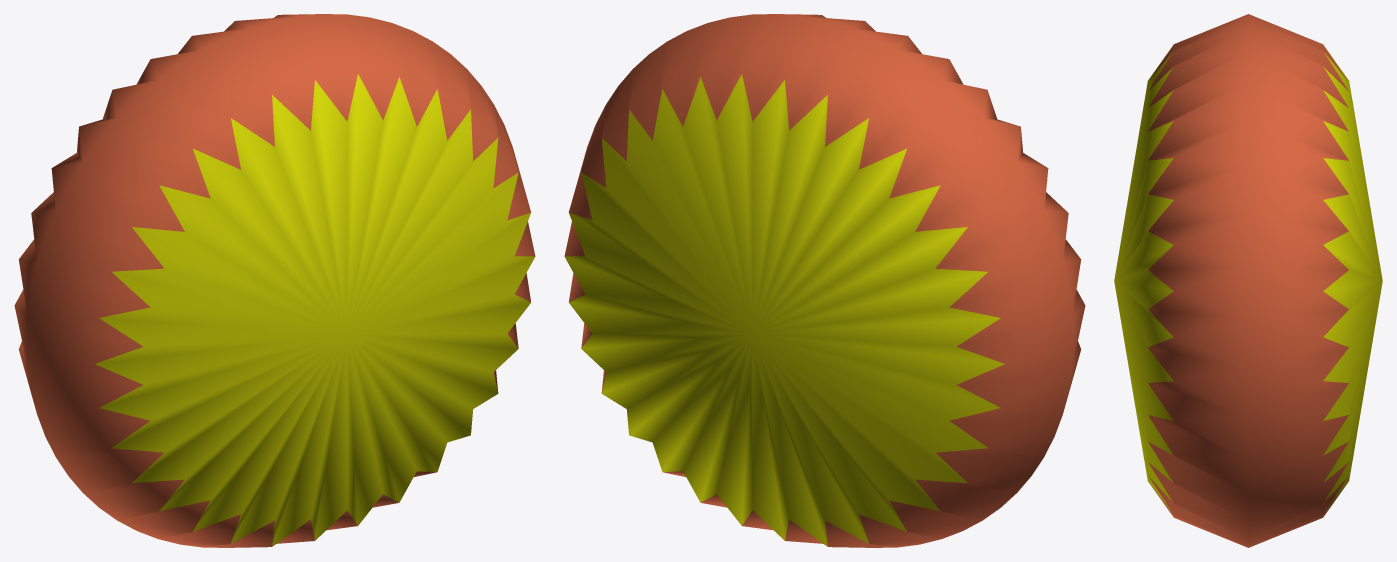
The model's file is coin.fbx.
3 views of the same model, side by side, from view 1: azimuth 30°, elevation 25°; view 2: azimuth 150°, elevation 25°; view 3: azimuth 270°, elevation 25° (orthographic). The views are drawn at different scales.
Visible parts, largest first — view 1: Coins; view 2: Coins; view 3: Coins.
Part boxes in pixels (x1,y1,x2,y2): Coins: (14,14,535,547); Coins: (564,14,1085,547); Coins: (1114,14,1382,547).
Bounding box in the file's own units: 1.99 × 1.99 × 1.
